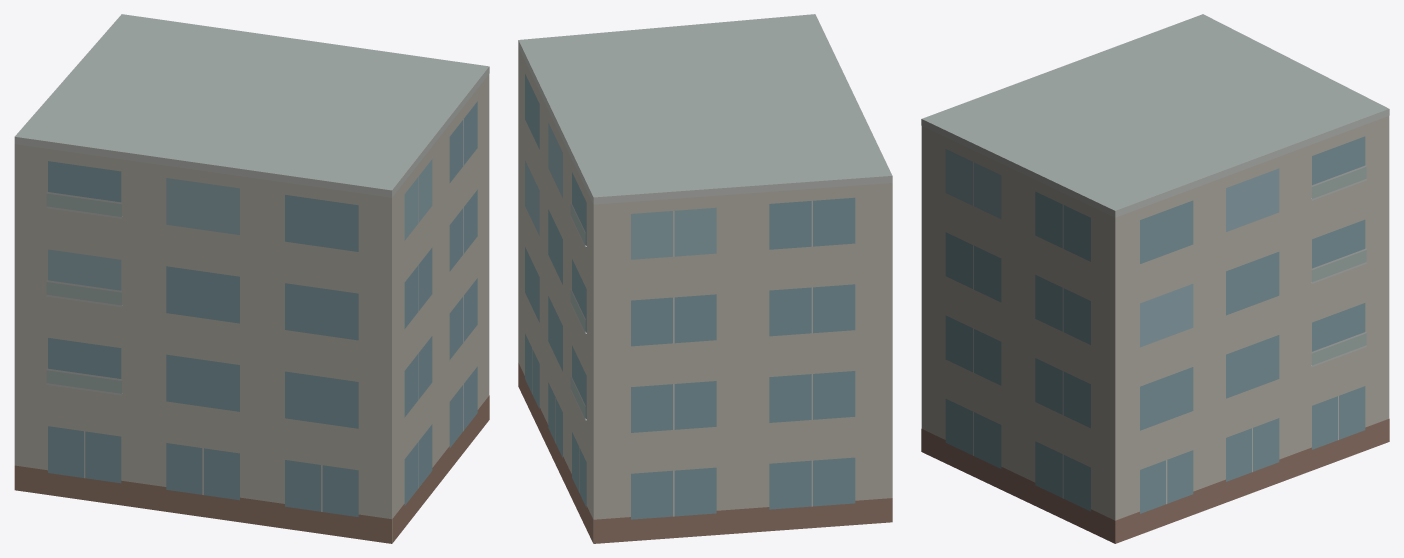
Rendered from survey-upis-32628834.glb.
3 views of the same model, side by side, from view 1: azimuth 30°, elevation 25°; view 2: azimuth 150°, elevation 25°; view 3: azimuth 270°, elevation 25° (orthographic). The views are drawn at different scales.
Parts seen in each view (by area): view 1: survey-upis-32628834.tmp; view 2: survey-upis-32628834.tmp; view 3: survey-upis-32628834.tmp.
Boxes of the visible parts, x1,y1,x2,y2 form: survey-upis-32628834.tmp: (14,14,489,543); survey-upis-32628834.tmp: (518,14,892,543); survey-upis-32628834.tmp: (921,14,1389,543).
Size of the model in its own units: 15.1 by 11.9 by 15.16.
